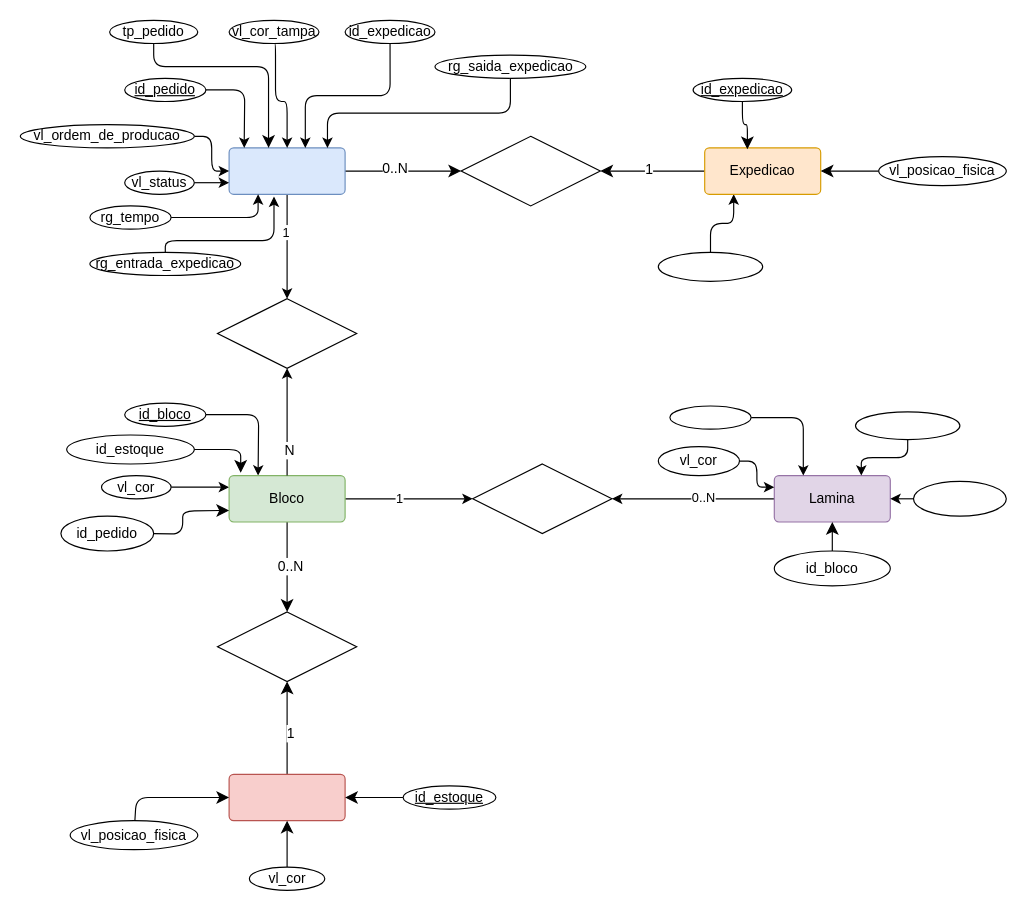
Some shapes in this 1027 by 911 pixel diagram are drawn without their labels. Here are the shapes that lost their labels. From the top down, the box of each, then its label:
(228, 147, 345, 194): Pedido
(460, 135, 600, 206): gera
(657, 251, 763, 281): vl_op_atual
(216, 298, 357, 368): compõe
(669, 405, 751, 429): id_lamina
(854, 411, 960, 440): vl_padrao
(472, 463, 612, 534): contém
(912, 480, 1006, 516): vl_posicao
(216, 611, 357, 682): aloca
(228, 773, 345, 821): Estoque
